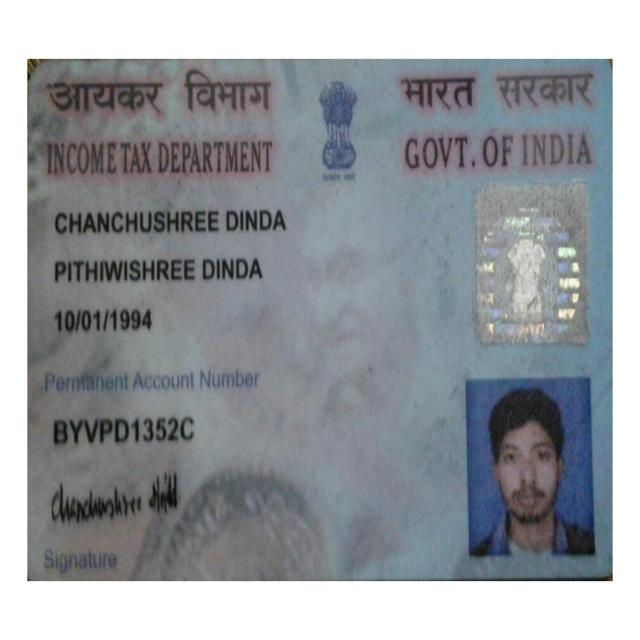pan_card: (30, 62, 612, 580)
